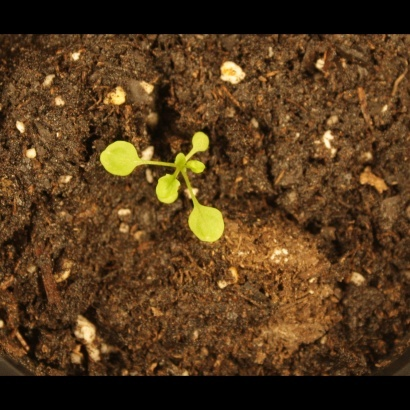leaf: (184, 201, 230, 246), (99, 138, 145, 181), (154, 175, 184, 205), (187, 131, 214, 155), (186, 156, 209, 179), (165, 150, 188, 173)
